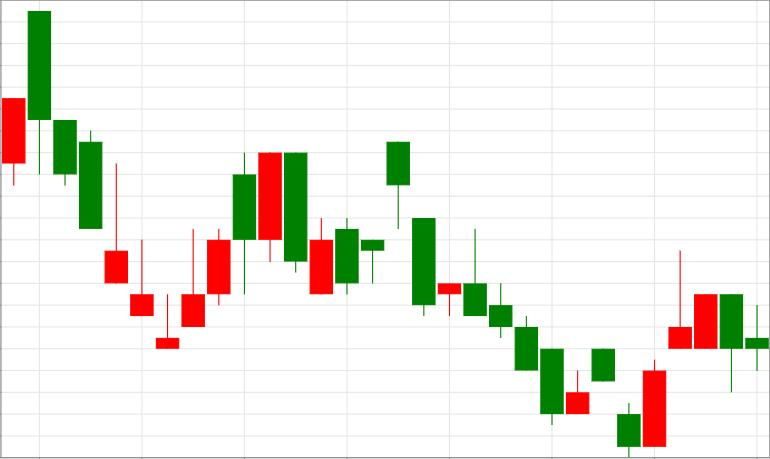bearish_engulfing_fall: (157, 153, 307, 350)
